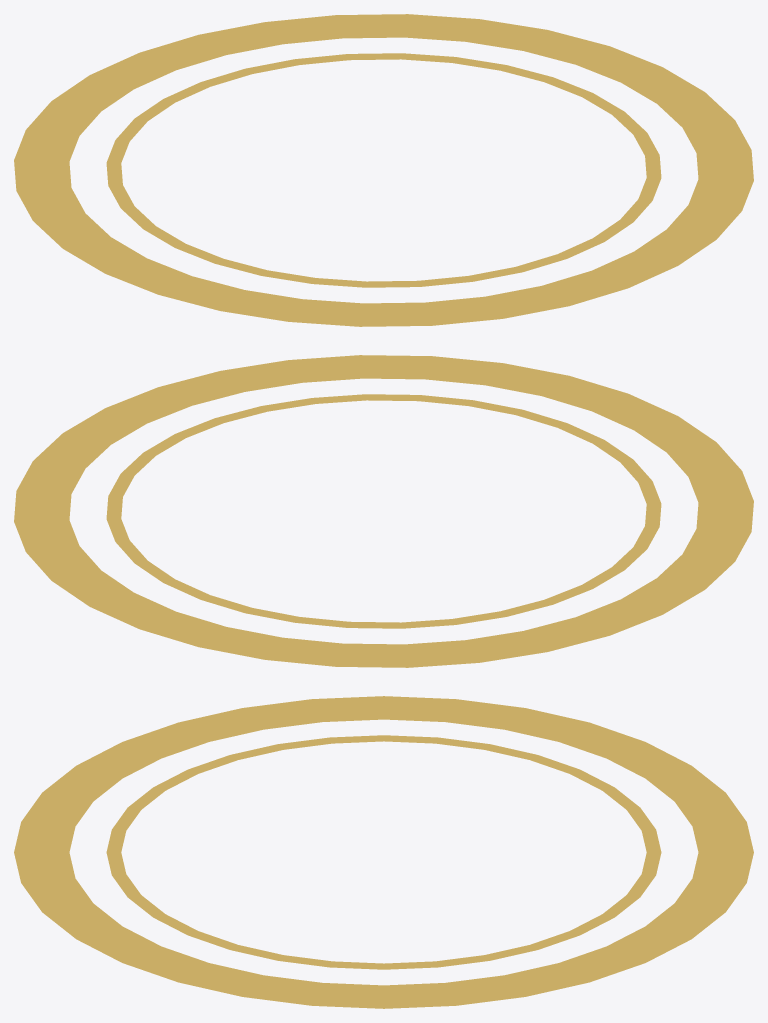
File: zone_x2.glb
The picture shows the model from 3 angles, top to bottom: view 1: azimuth 30°, elevation 25°; view 2: azimuth 150°, elevation 25°; view 3: azimuth 270°, elevation 25°; orthographic projection.
Parts seen in each view (by area): view 1: zone_x2; view 2: zone_x2; view 3: zone_x2.
Boxes of the visible parts, x1,y1,x2,y2 form: zone_x2: (14,14,753,326); zone_x2: (14,355,753,667); zone_x2: (14,696,753,1008).
Bounding box in the file's own units: 0.2 × 0 × 0.2.
